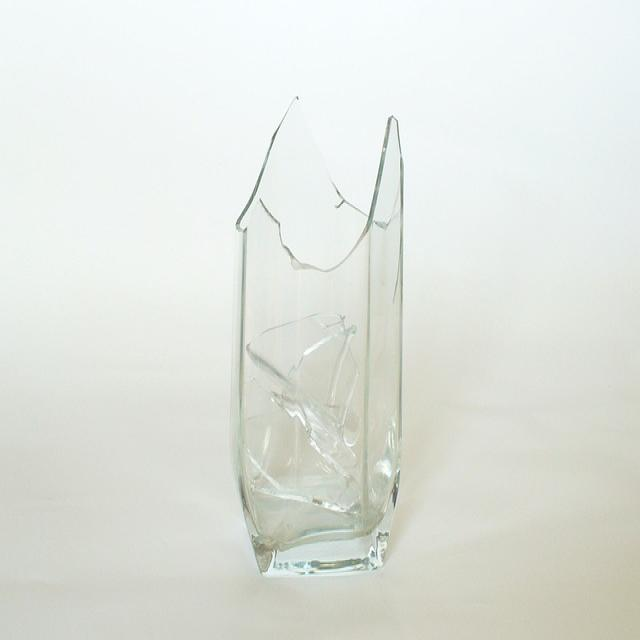PecahanKaca: (230, 90, 408, 579)
